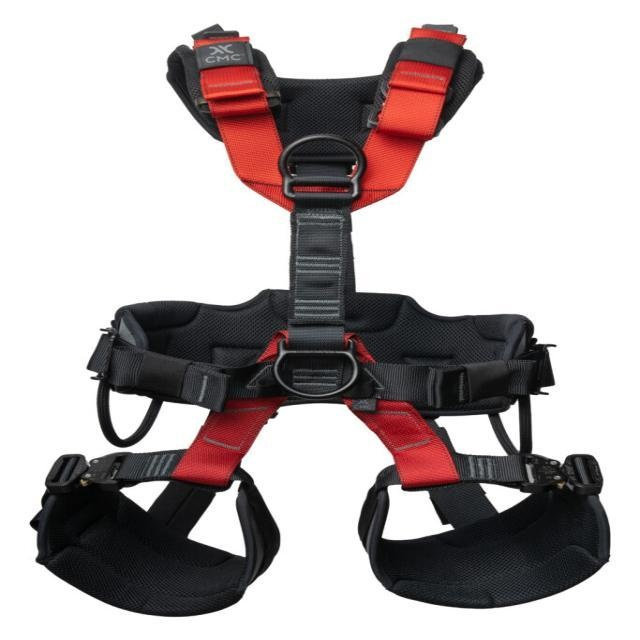Arnes_seguridad: (21, 20, 615, 618)
